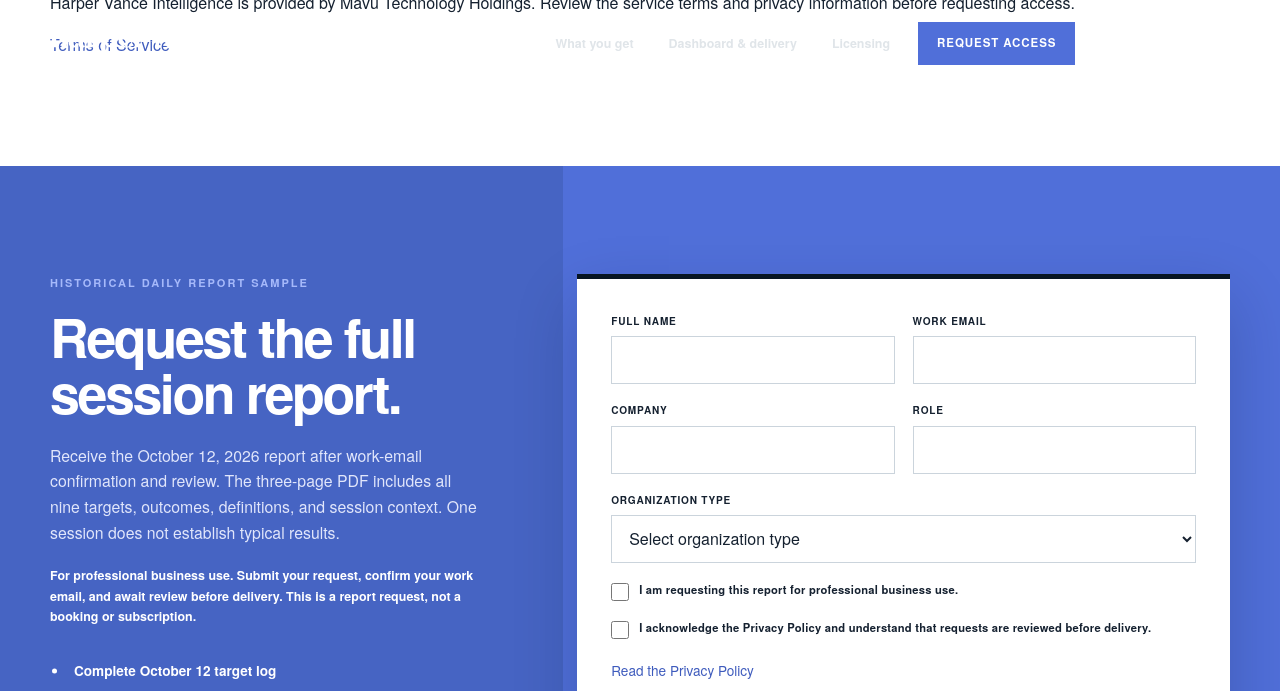
Test: public evaluation journey › handles accepted requests without claiming email delivery: {}
The image size is (1280, 691).
(page scrolled)
Type "Test Analyst" into the field labelled "Full name" at point(753, 360), box x1=611 y1=336 x2=895 y2=384
Type "analyst@example.com" into the field labelled "Work email" at point(1054, 360), box x1=913 y1=336 x2=1196 y2=384
Type "Example Desk" into the field labelled "Company" at point(753, 450), box x1=611 y1=426 x2=895 y2=474
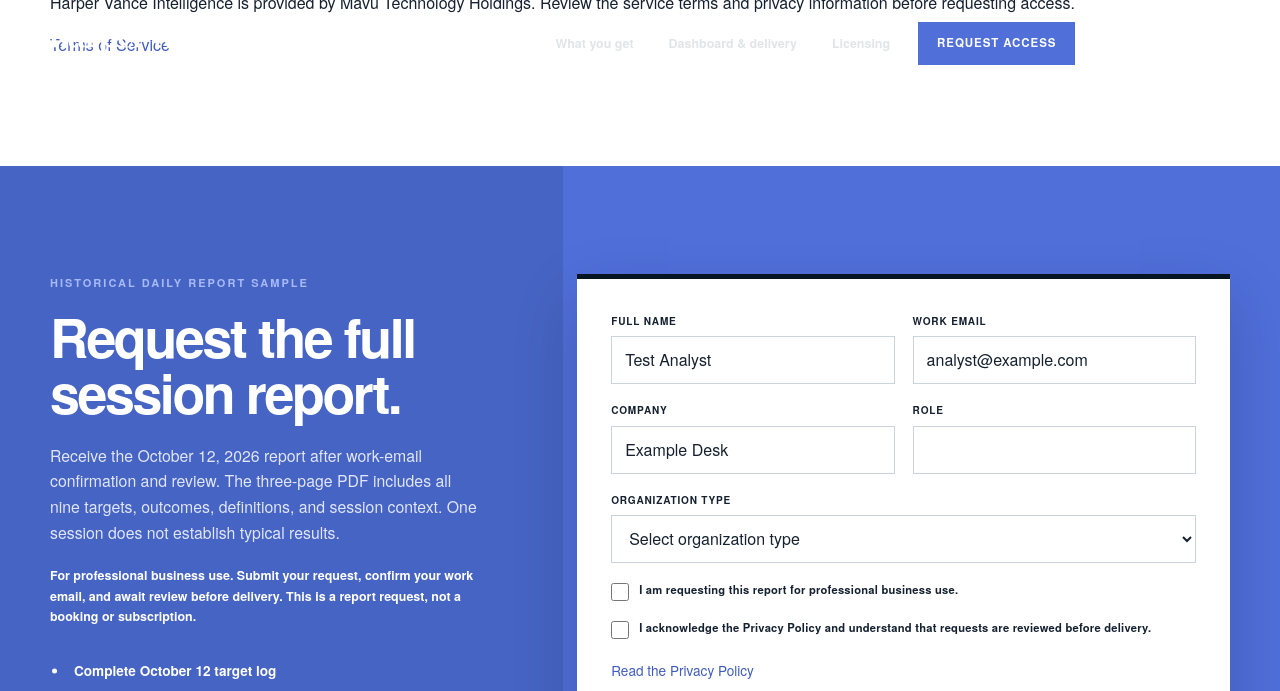
Type "Research Lead" into the field labelled "Role" at point(1054, 450), box x1=913 y1=426 x2=1196 y2=474
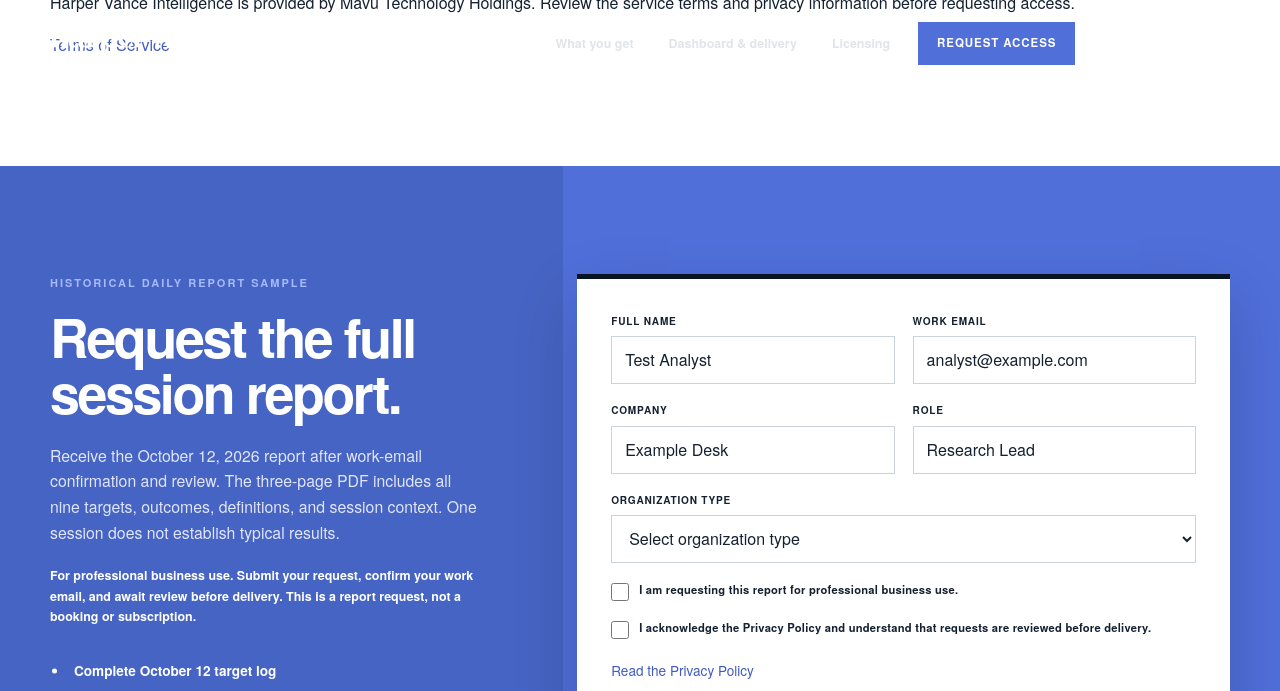
Select "Proprietary trading firm" in the dropdown labelled "Organization type" at point(904, 539), box x1=611 y1=515 x2=1196 y2=563
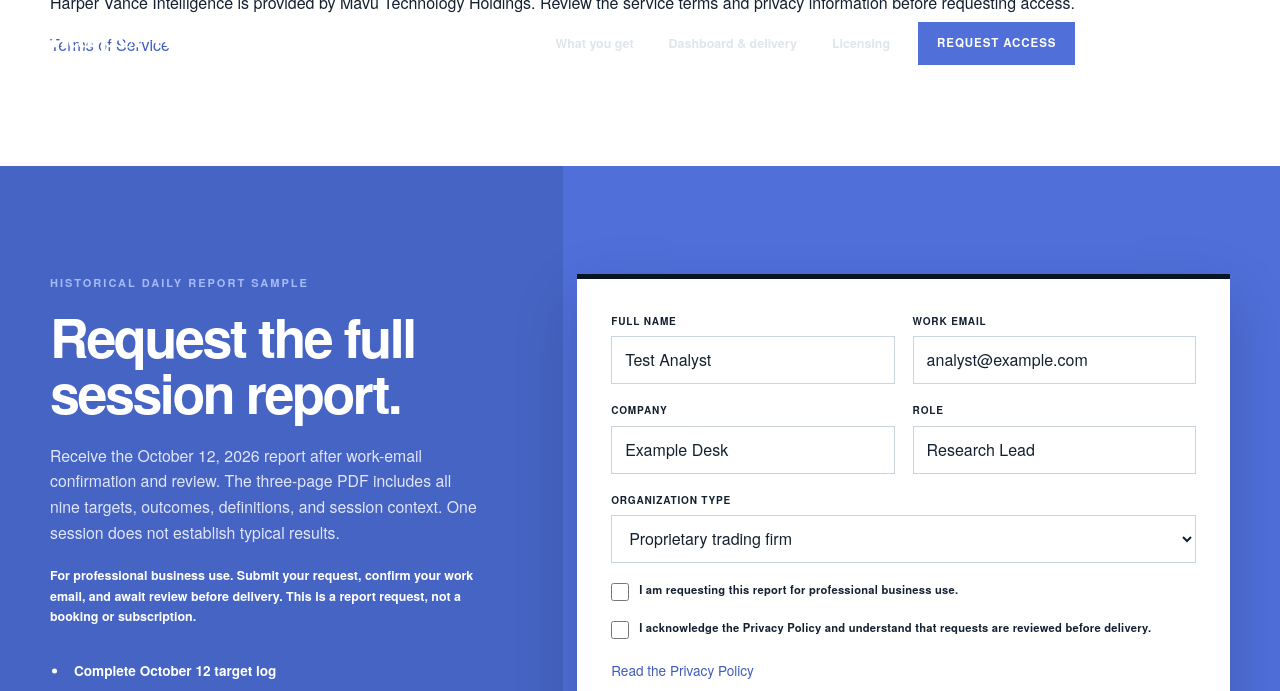
Click the checkbox labelled "I am requesting this report for professional business use." at point(620, 592), box x1=611 y1=583 x2=629 y2=601
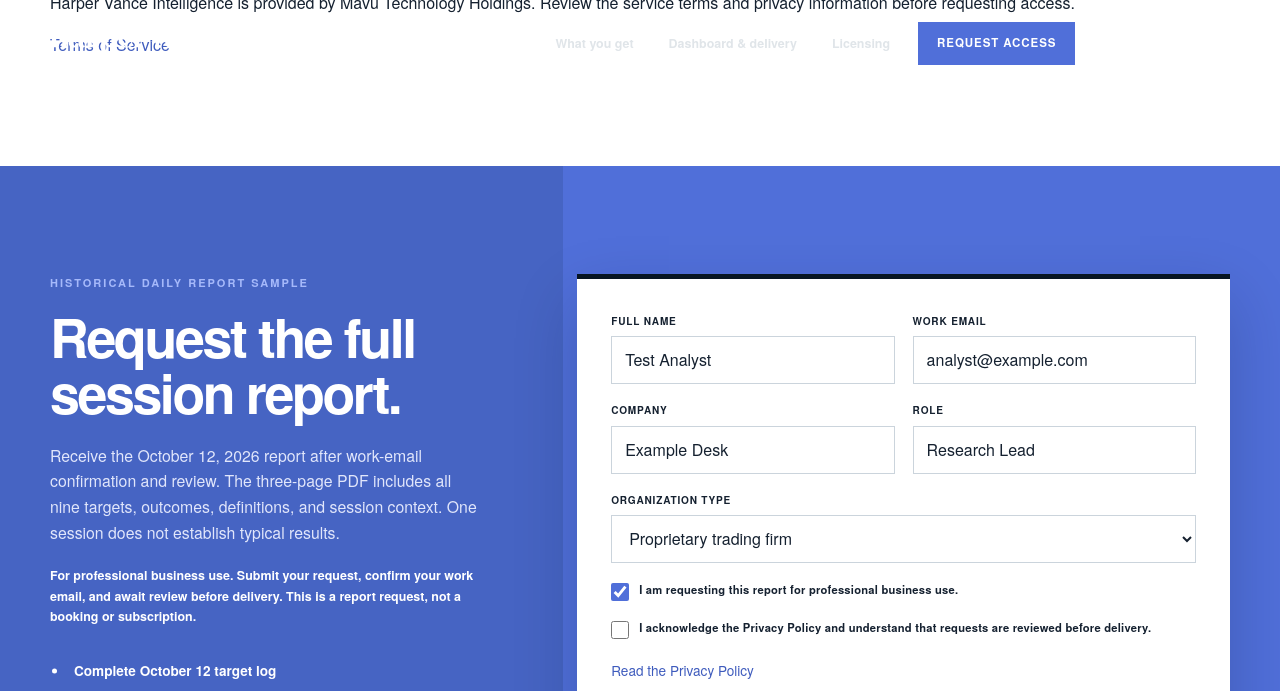
Click the checkbox labelled "I acknowledge the Privacy Policy" at point(620, 630), box x1=611 y1=621 x2=629 y2=639
(page scrolled)
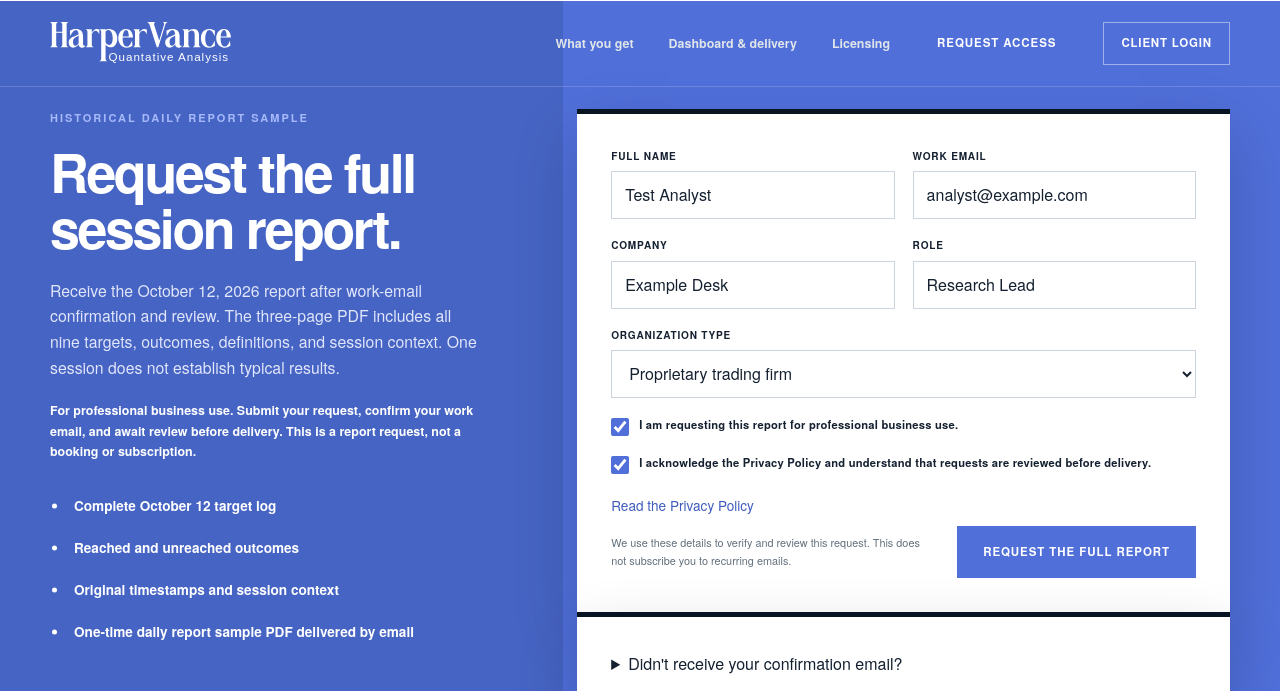
Submit the form, box x1=577 y1=109 x2=1230 y2=612
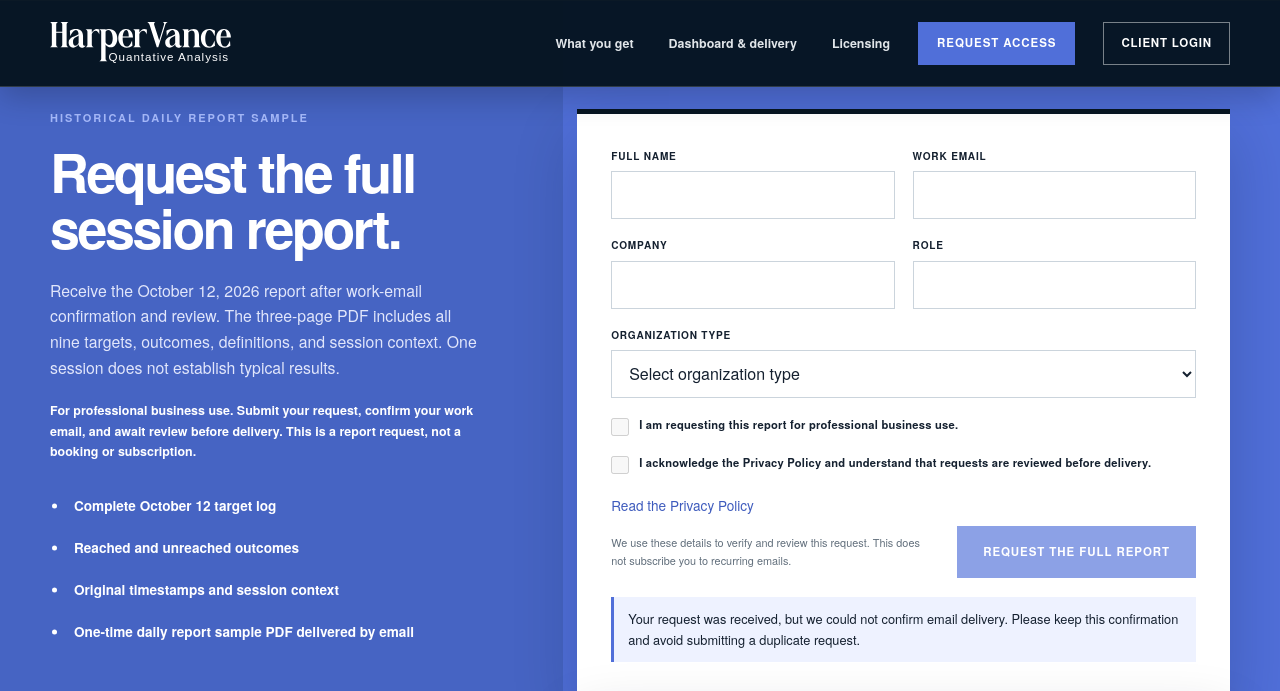
Expected: the button "Request the Full Report" is disabled, x1=957 y1=526 x2=1196 y2=578
Expected: the message shows "could not confirm email delivery", x1=628 y1=609 x2=1178 y2=648
